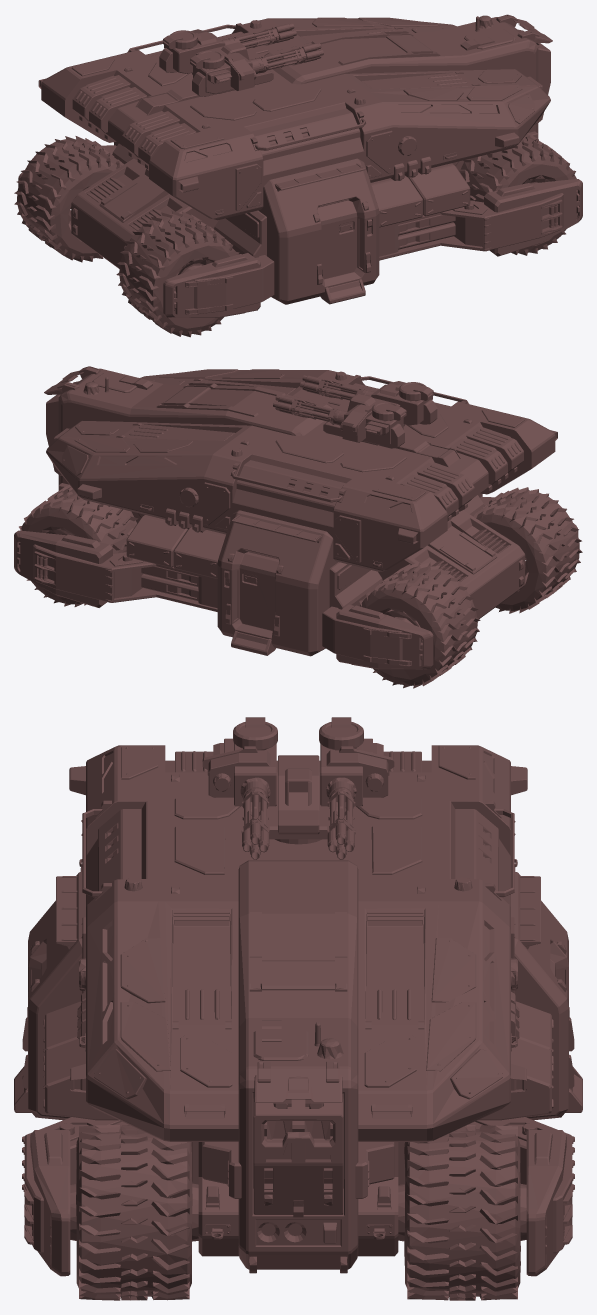
Rendered from zhanche.obj.
3 renders of one model, top to bottom at view 1: azimuth 30°, elevation 25°; view 2: azimuth 150°, elevation 25°; view 3: azimuth 270°, elevation 25°, orthographic. The views are drawn at different scales.
Visible parts, largest first — view 1: APC_OBJ.obj; view 2: APC_OBJ.obj; view 3: APC_OBJ.obj.
Part boxes in pixels (bbox=[...]): APC_OBJ.obj: bbox=[14, 14, 582, 337]; APC_OBJ.obj: bbox=[14, 366, 582, 688]; APC_OBJ.obj: bbox=[14, 717, 582, 1300].
Bounding box in the file's own units: 258 × 122 × 175.
